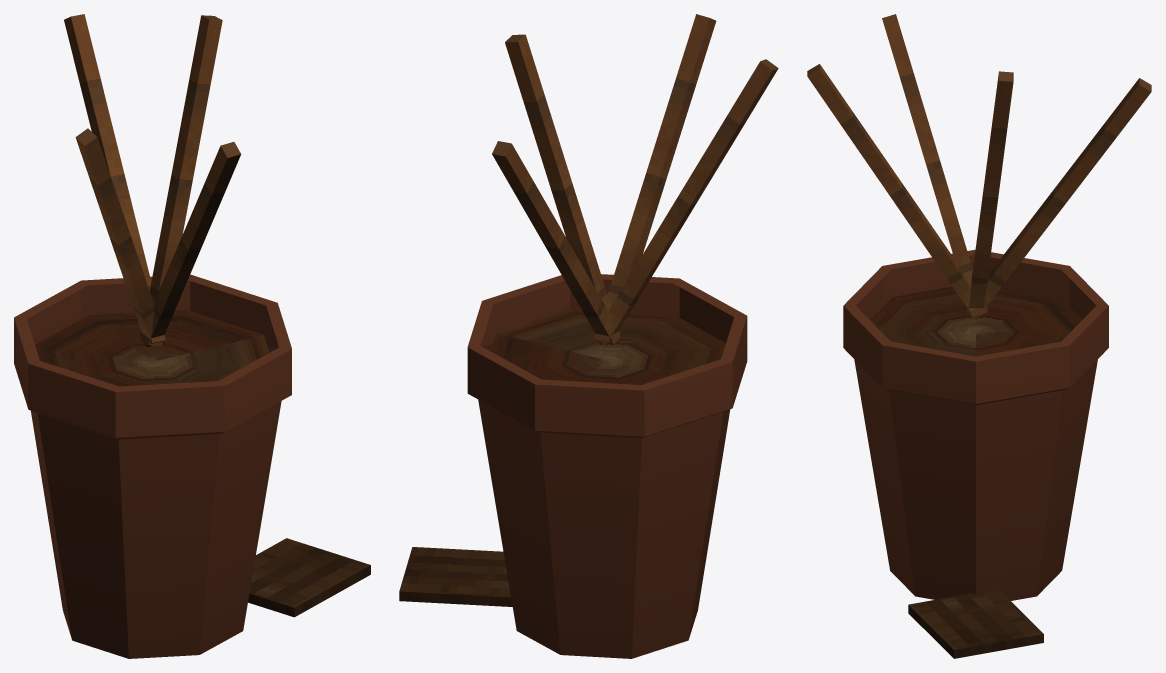
The model's file is prop_plant-1.glb.
The picture shows the model from 3 angles, left to right: view 1: azimuth 30°, elevation 25°; view 2: azimuth 150°, elevation 25°; view 3: azimuth 270°, elevation 25°; orthographic projection. The views are drawn at different scales.
Parts seen in each view (by area): view 1: prop_plant-1; view 2: prop_plant-1; view 3: prop_plant-1.
Part boxes in pixels (left/top/right/bottom): prop_plant-1: left=14, top=14, right=370, bottom=658; prop_plant-1: left=399, top=14, right=778, bottom=658; prop_plant-1: left=807, top=14, right=1151, bottom=658.
Size of the model in its own units: 0.3608 by 0.6 by 0.3529.
Materials: 4 (4 with a texture image).
